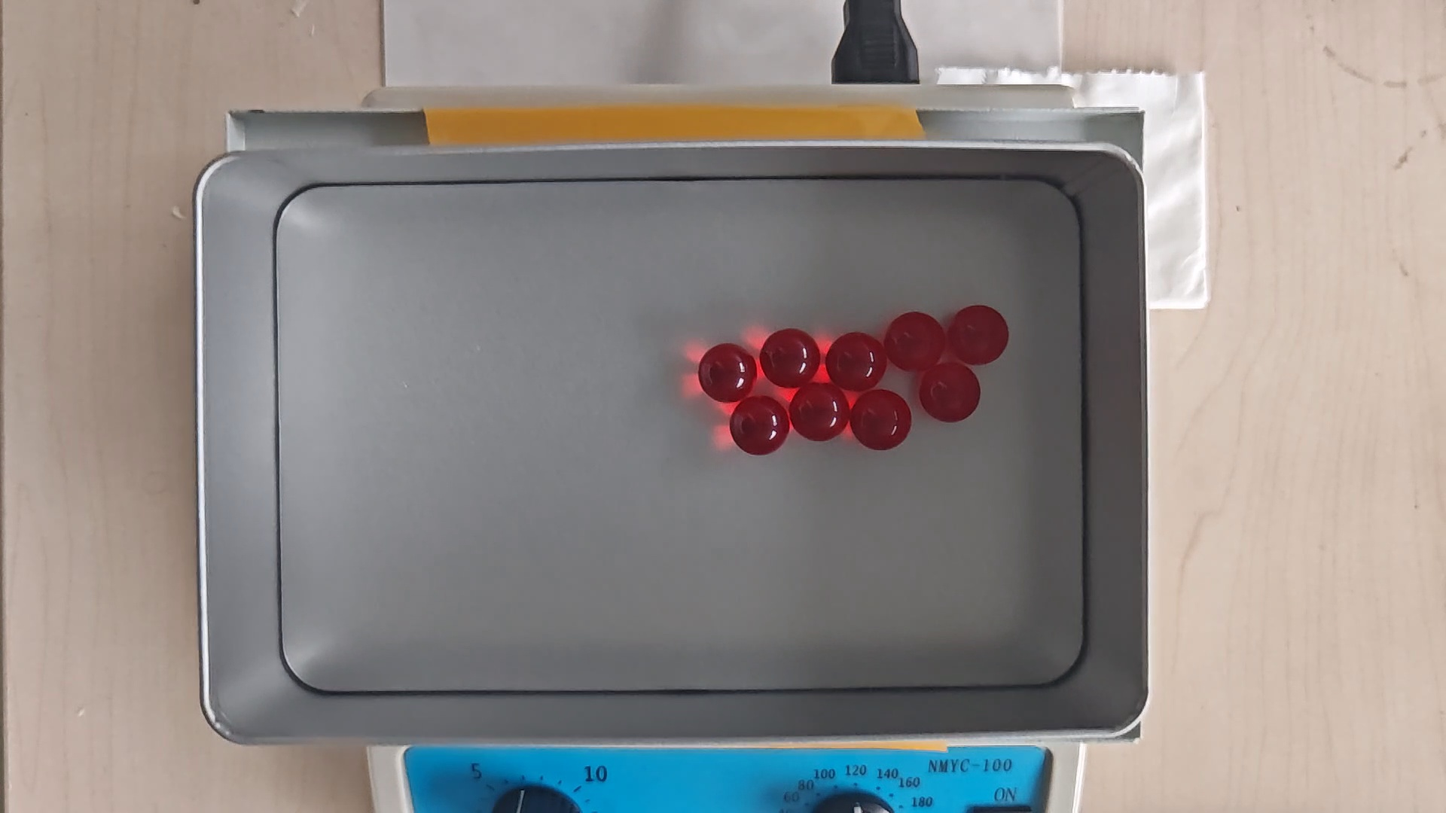ball: (920, 363, 982, 424), (949, 303, 1009, 366), (884, 311, 945, 372), (852, 388, 911, 451), (759, 328, 820, 387), (789, 383, 848, 443), (826, 332, 886, 390), (700, 343, 757, 403), (731, 397, 789, 455)
container: (276, 180, 1086, 692)
